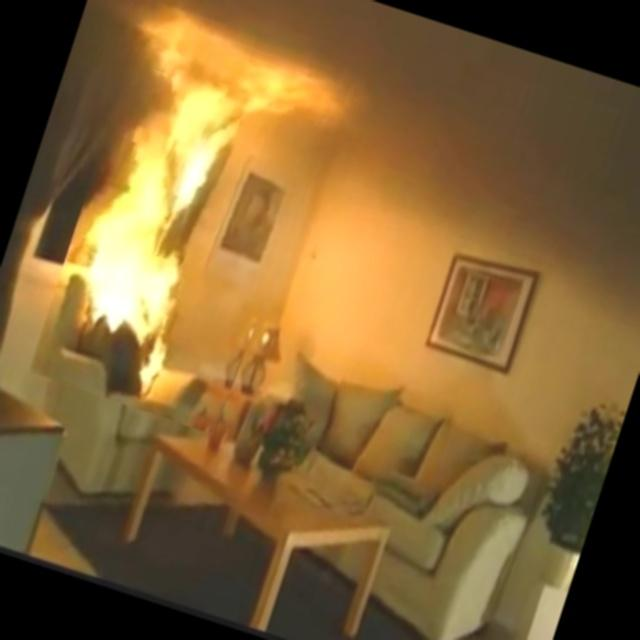fire: (54, 17, 312, 364)
smoke: (317, 3, 640, 310)
